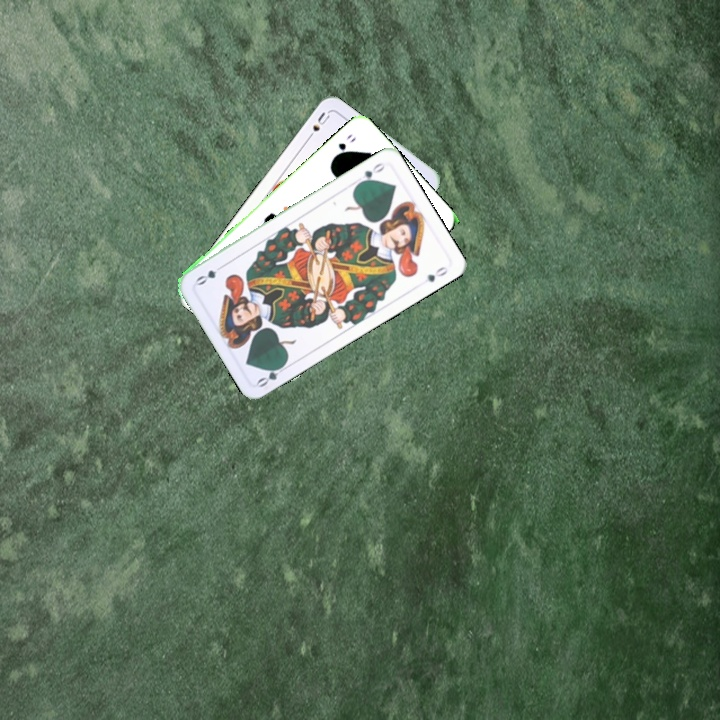GO: (253, 359, 291, 390), (353, 158, 388, 188), (329, 130, 359, 161)
SU: (303, 108, 333, 143)
